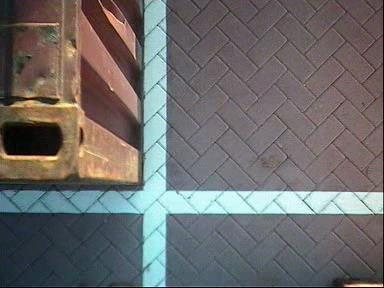groundmarker_2: (76, 250, 144, 288), (72, 70, 139, 108)
